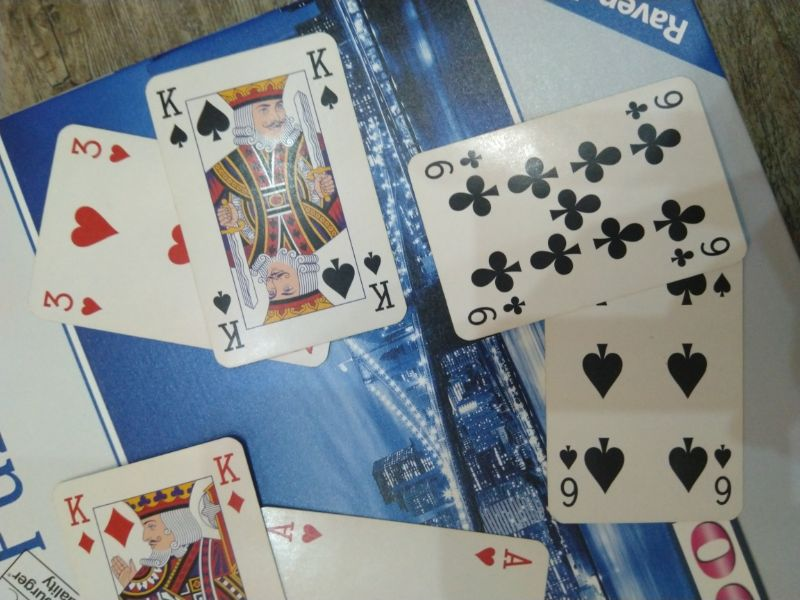3h: (37, 281, 109, 323), (68, 127, 137, 169)
6s: (550, 440, 586, 515), (705, 437, 739, 513)
9c: (667, 229, 737, 272), (417, 144, 491, 183), (620, 85, 693, 124), (462, 293, 534, 330)
Ah: (257, 510, 331, 554), (468, 536, 538, 577)
Kd: (206, 445, 253, 516), (59, 489, 103, 558)
Ks: (299, 43, 348, 113), (207, 286, 252, 359), (358, 246, 403, 319), (152, 84, 198, 152)
